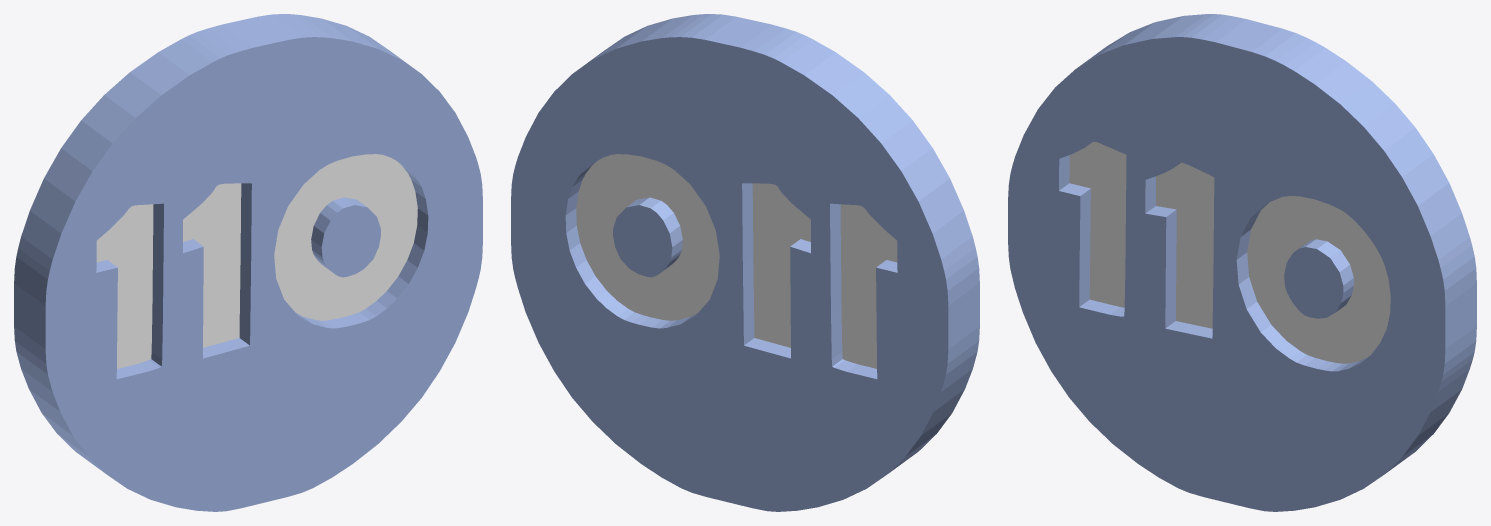
The model's file is keisatu-marker-backup.fbx.
3 renders of one model, left to right at view 1: azimuth 30°, elevation 25°; view 2: azimuth 150°, elevation 25°; view 3: azimuth 330°, elevation 25°, orthographic.
Parts seen in each view (by area): view 1: obj_0.004; view 2: obj_0.004; view 3: obj_0.004.
Part boxes in pixels (x1,y1,x2,y2): obj_0.004: [14, 14, 482, 511]; obj_0.004: [511, 14, 979, 511]; obj_0.004: [1008, 14, 1476, 511].
Bounding box in the file's own units: 4000 × 4000 × 500.
